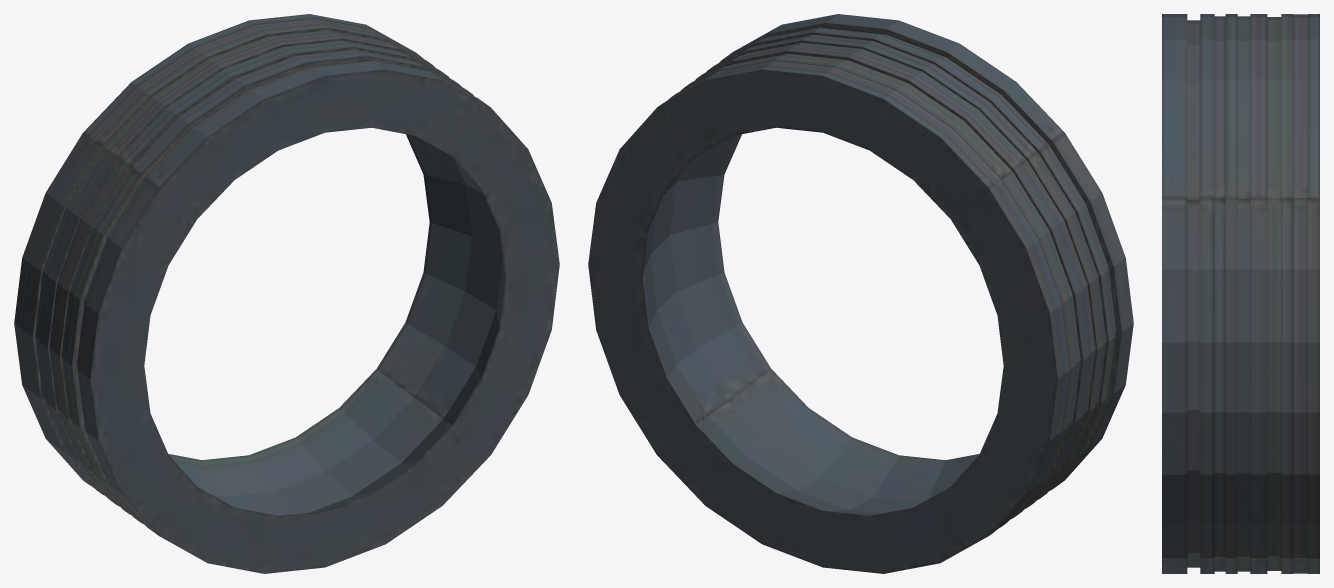
The model's file is 504DFE6EMeN.glb.
The picture shows the model from 3 angles, left to right: view 1: azimuth 30°, elevation 25°; view 2: azimuth 150°, elevation 25°; view 3: azimuth 270°, elevation 25°; orthographic projection. The views are drawn at different scales.
Visible parts, largest first — view 1: Node; view 2: Node; view 3: Node.
Part boxes in pixels (x1,y1,x2,y2): Node: [14, 14, 559, 573]; Node: [588, 14, 1133, 573]; Node: [1162, 14, 1319, 573].
Size of the model in its own units: 1 by 1 by 0.2809.
1 material, 1 textured.
